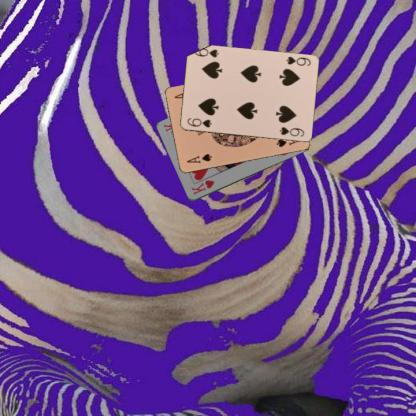6s: (184, 115, 213, 129), (284, 54, 312, 68)
As: (184, 151, 213, 165)
Kh: (188, 178, 216, 196)
